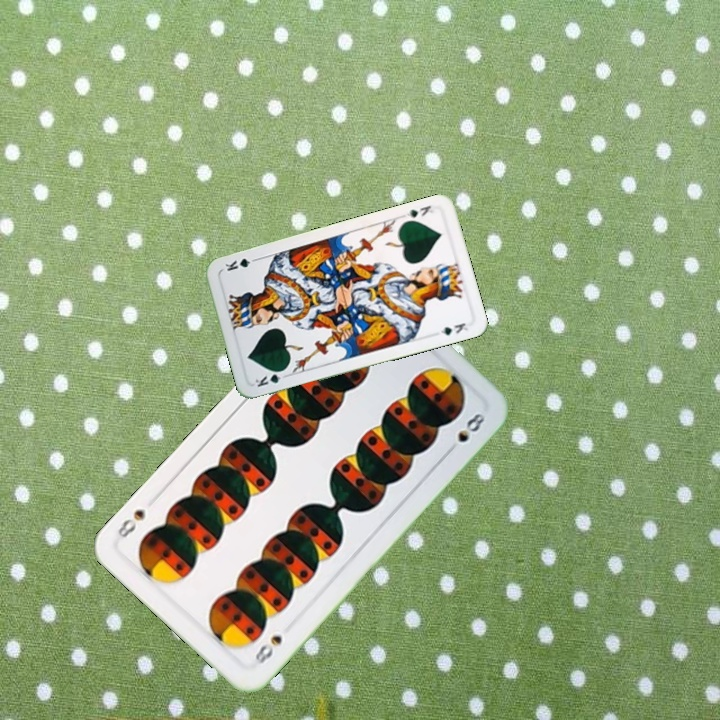GK: (251, 366, 291, 390), (403, 201, 436, 220)
S8: (250, 631, 285, 671)
